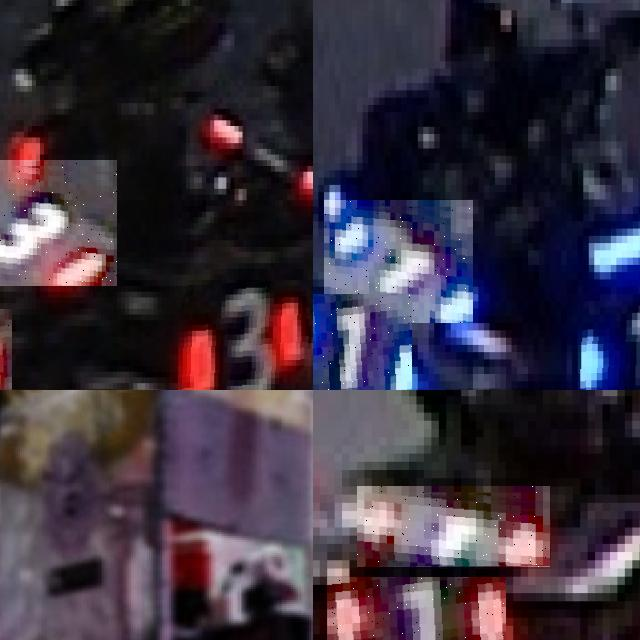B1: (324, 200, 473, 323), (313, 294, 412, 390), (577, 301, 640, 390)
R1: (357, 486, 550, 568), (327, 576, 505, 640)
R3: (177, 280, 311, 390), (0, 160, 117, 285)
